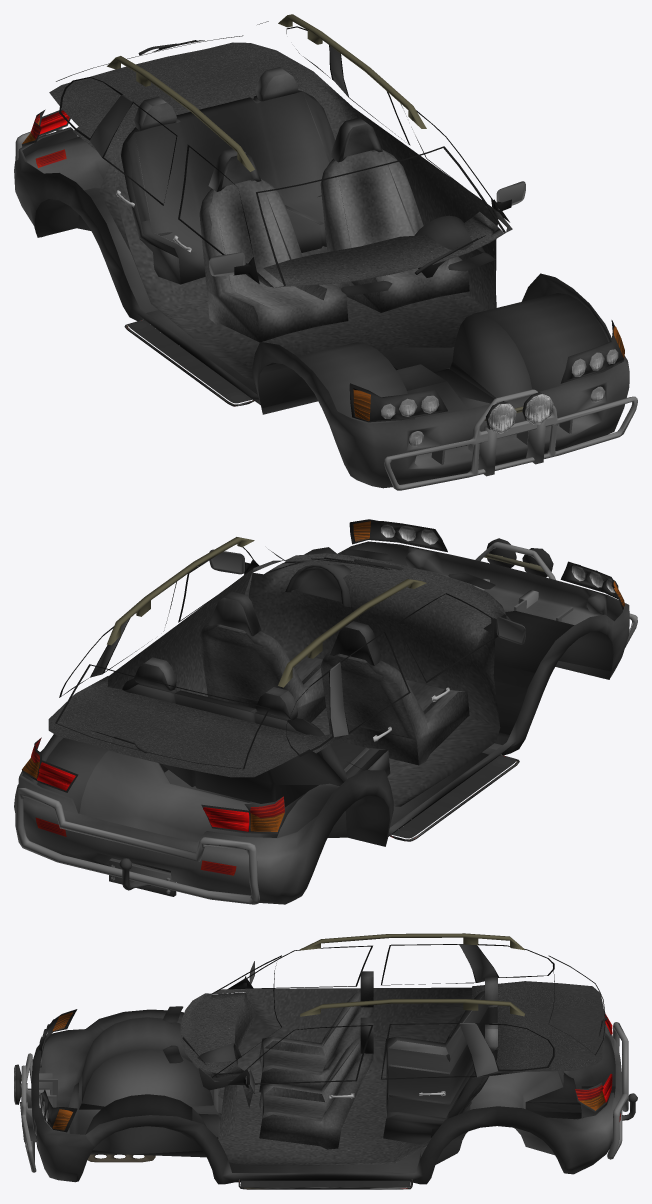
Rendered from LK4_interior_d3.obj.
3 renders of one model, top to bottom at view 1: azimuth 30°, elevation 25°; view 2: azimuth 150°, elevation 25°; view 3: azimuth 270°, elevation 25°, orthographic. The views are drawn at different scales.
Parts seen in each view (by area): view 1: LK4_interior_LK4_interior_DefaultMaterial; view 2: LK4_interior_LK4_interior_DefaultMaterial; view 3: LK4_interior_LK4_interior_DefaultMaterial.
Part boxes in pixels (box(x1,y1,x2,y2)): LK4_interior_LK4_interior_DefaultMaterial: box(14, 14, 637, 490); LK4_interior_LK4_interior_DefaultMaterial: box(14, 519, 637, 904); LK4_interior_LK4_interior_DefaultMaterial: box(14, 933, 637, 1189).
Bounding box in the file's own units: 2.06 × 1.45 × 4.5.
1 material, 1 textured.
